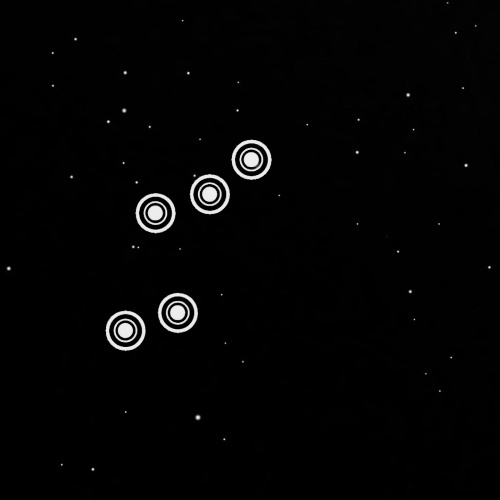lyra: (94, 124, 277, 366)
